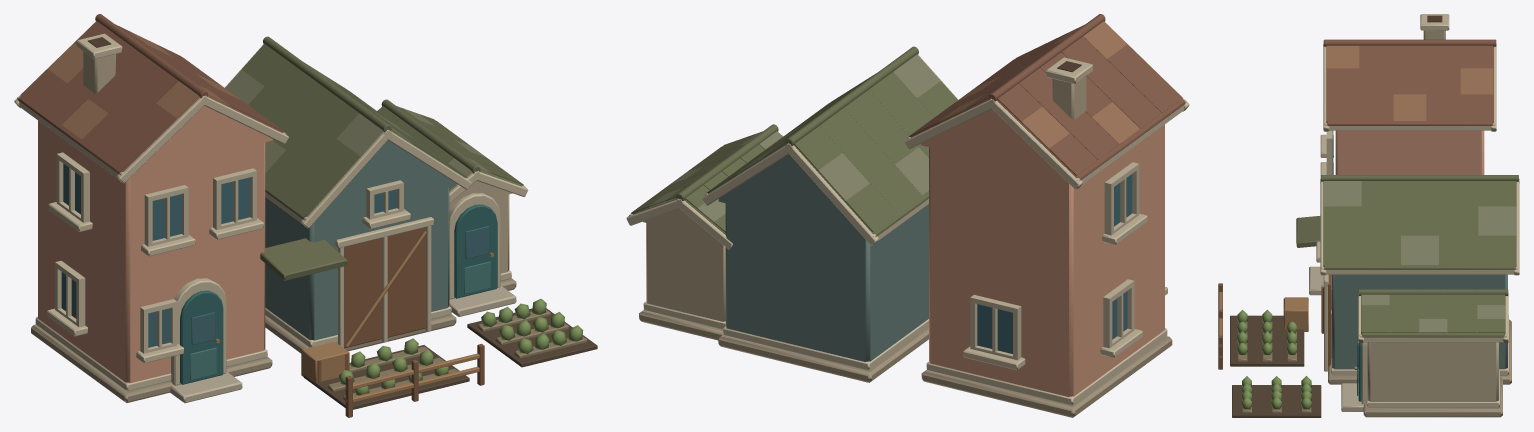
File: farmstead_level_3.glb
The picture shows the model from 3 angles, left to right: view 1: azimuth 30°, elevation 25°; view 2: azimuth 150°, elevation 25°; view 3: azimuth 270°, elevation 25°; orthographic projection. The views are drawn at different scales.
Visible parts, largest first — view 1: farmstead_level_3_runtime; view 2: farmstead_level_3_runtime; view 3: farmstead_level_3_runtime.
Part boxes in pixels (bbox=[...]): farmstead_level_3_runtime: bbox=[14, 14, 597, 417]; farmstead_level_3_runtime: bbox=[626, 14, 1189, 417]; farmstead_level_3_runtime: bbox=[1218, 14, 1519, 417].
Size of the model in its own units: 8.17 by 5.58 by 6.08.
